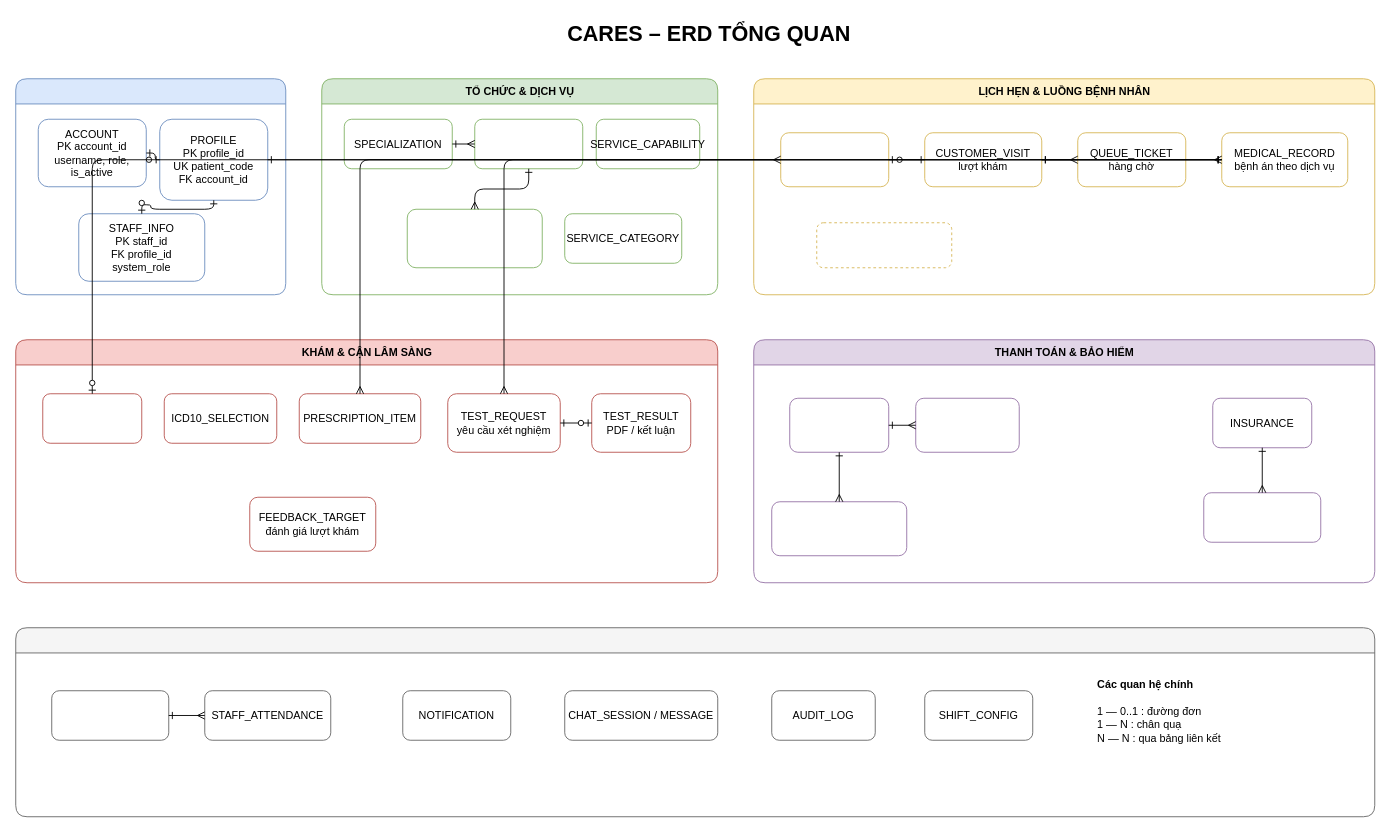
Image size: 1391x833. Some labels were removed from this diagram. Here are the shapes that lost their labels. From the top down, the box of each, then its label:
(474, 118, 583, 169): DEPARTMENT phòng/khoa
(780, 132, 889, 187): APPOINTMENT lịch hẹn
(15, 78, 286, 295): TÀI KHOẢN & CON NGƯỜI
(406, 208, 542, 268): MEDICAL_SERVICE dịch vụ khám / CLS
(816, 222, 952, 268): APPOINTMENT_SERVICES (N–N)
(42, 393, 142, 443): VITAL_SIGNS
(789, 397, 889, 452): INVOICE hóa đơn
(915, 397, 1019, 452): INVOICE_ITEM
(771, 501, 907, 556): PAYMENT_TRANSACTION
(1203, 492, 1321, 542): INSURANCE_RULE
(51, 690, 169, 740): STAFF_SCHEDULE
(15, 627, 1375, 817): VẬN HÀNH HỆ THỐNG
